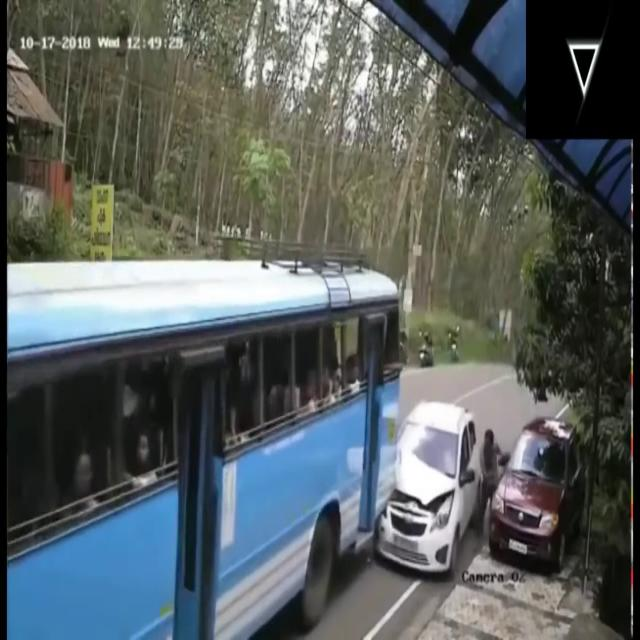accident: (343, 365, 477, 593)
